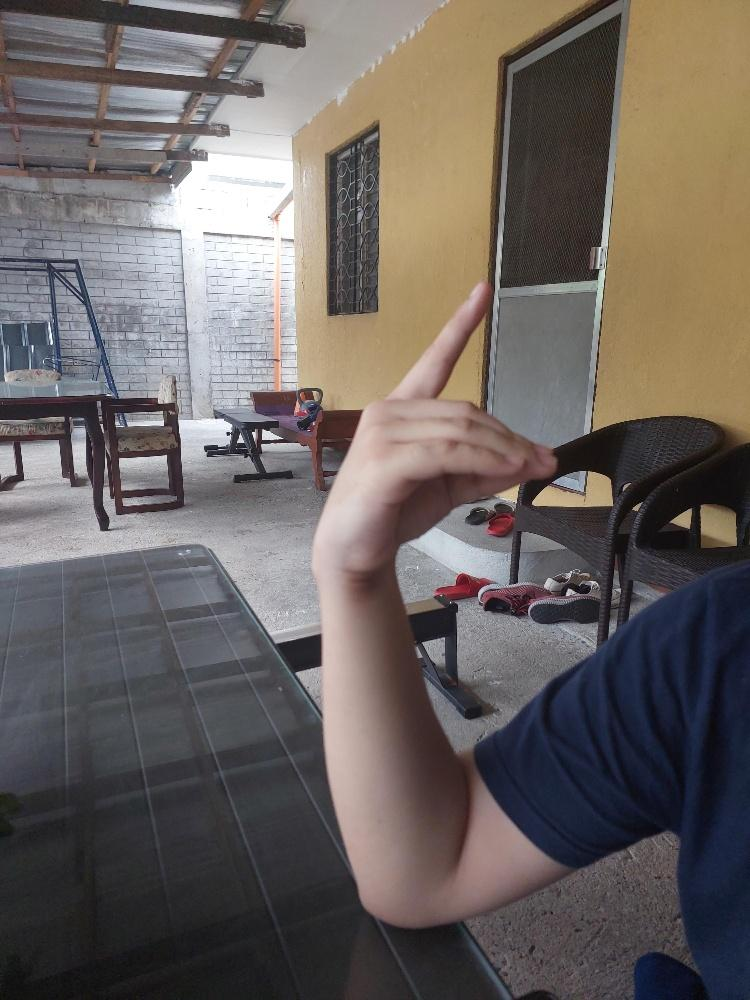d: (307, 277, 561, 576)
